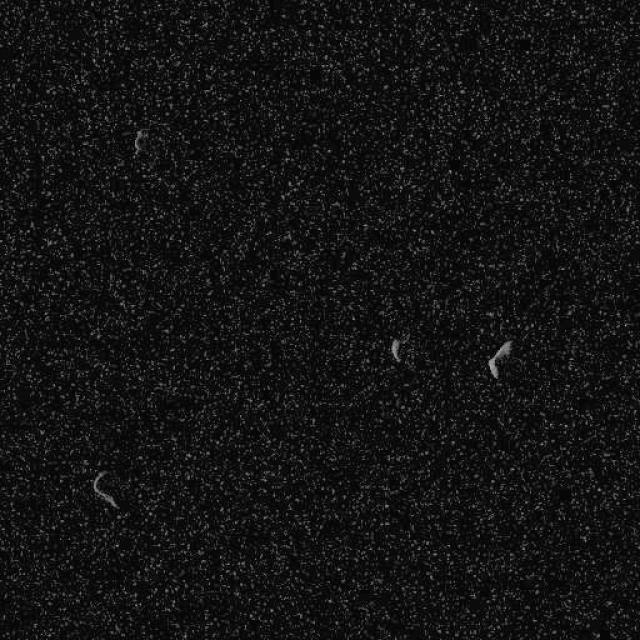D2: (91, 469, 120, 510), (486, 338, 514, 378), (132, 127, 148, 155), (389, 336, 401, 362)
